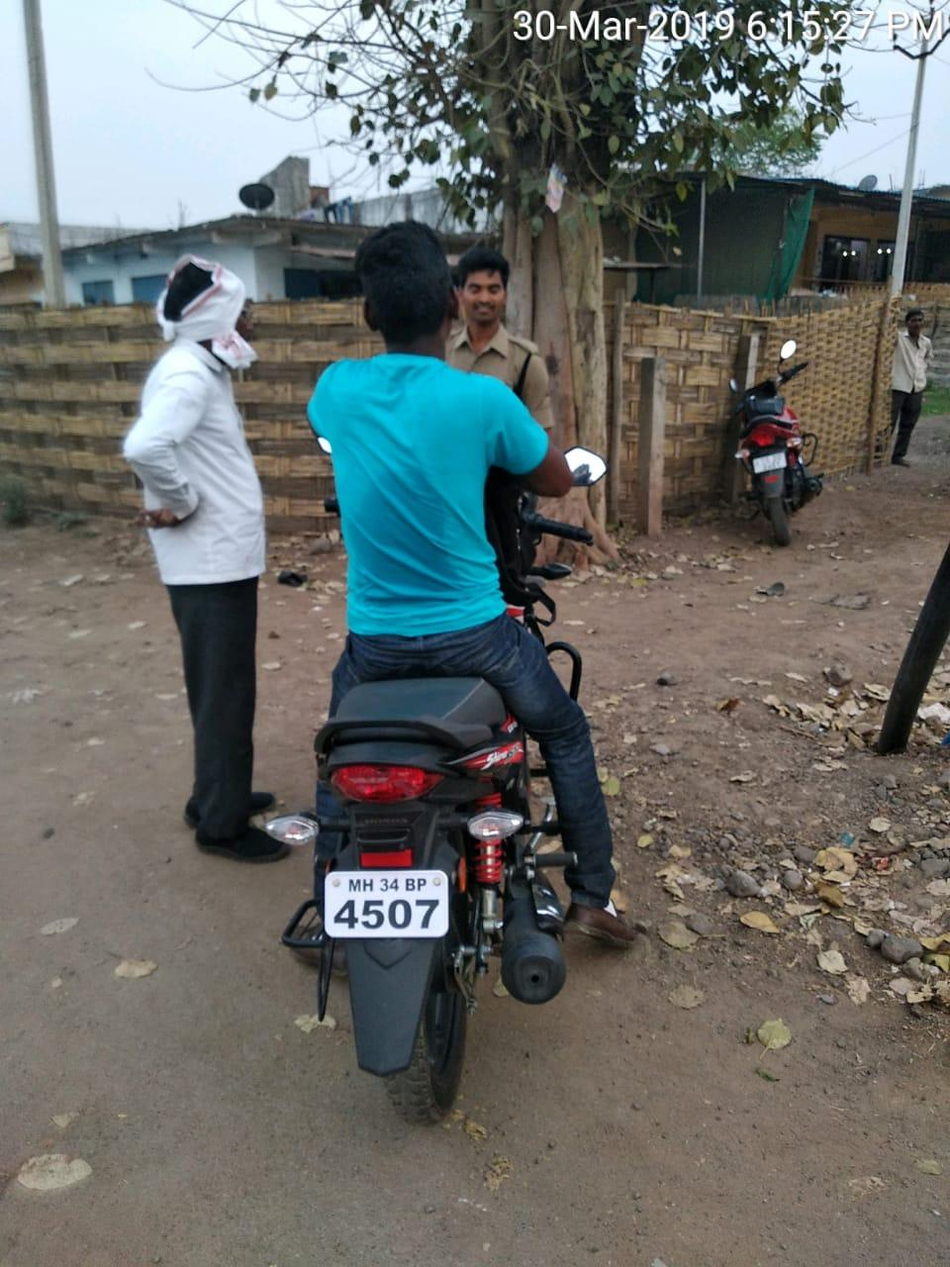plate: (307, 858, 458, 959)
